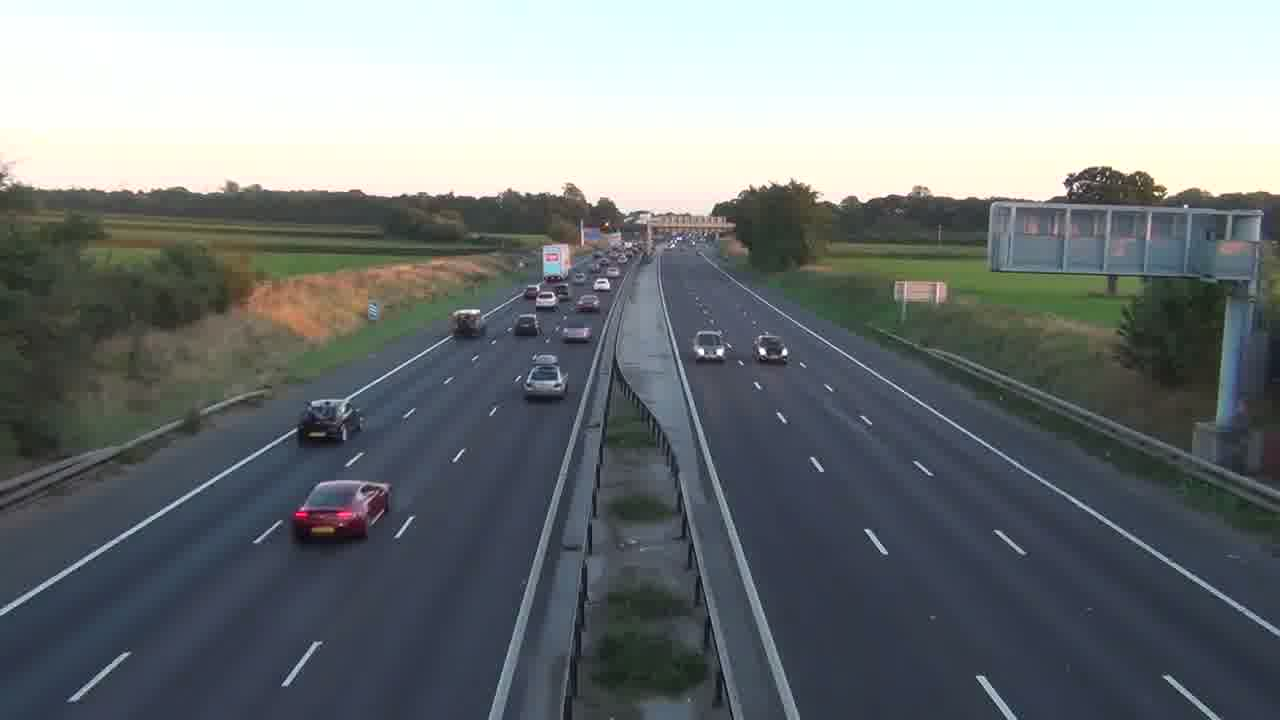car: (291, 479, 391, 542), (298, 397, 364, 443), (523, 364, 568, 401), (693, 329, 726, 364), (753, 333, 789, 364), (558, 323, 594, 343), (513, 312, 540, 336), (575, 293, 600, 313), (535, 289, 558, 309)
